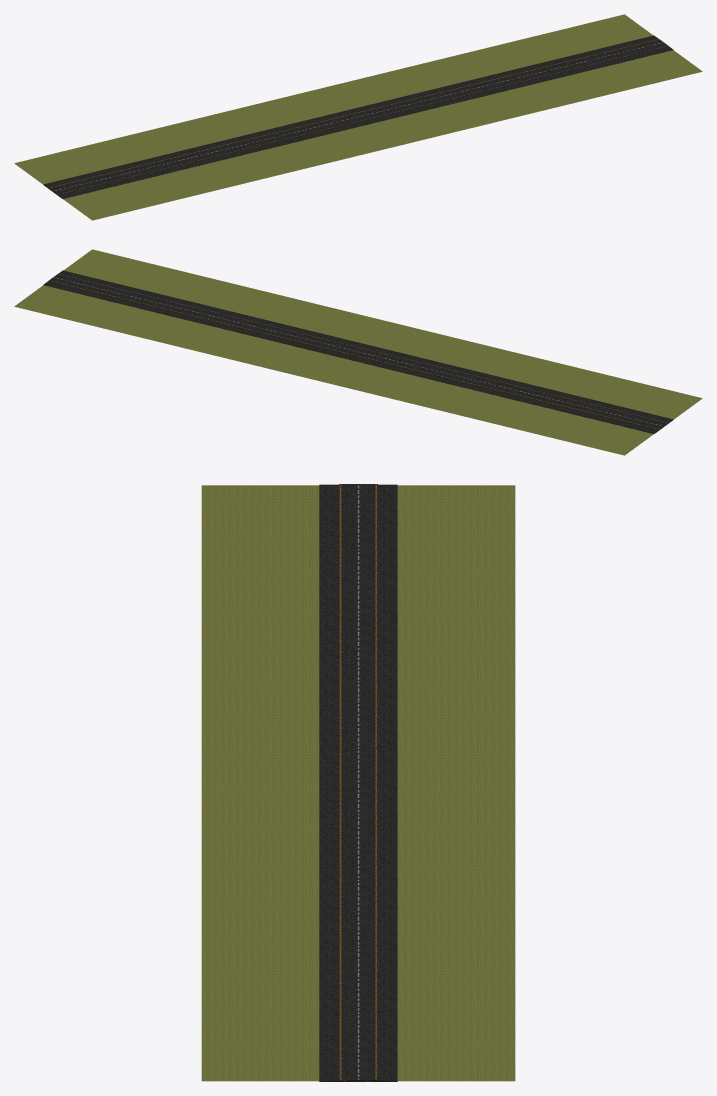
Rendered from Road.fbx.
3 views of the same model, one above another, from view 1: azimuth 30°, elevation 25°; view 2: azimuth 150°, elevation 25°; view 3: azimuth 270°, elevation 25° (orthographic). The views are drawn at different scales.
Visible parts, largest first — view 1: Plane, Cube.001; view 2: Plane, Cube.001; view 3: Plane, Cube.001.
Part boxes in pixels (box(x1,y1,x2,y2)): Plane: box(14, 14, 702, 220); Cube.001: box(43, 35, 673, 198); Plane: box(14, 249, 702, 455); Cube.001: box(43, 270, 673, 433); Plane: box(201, 485, 515, 1081); Cube.001: box(319, 484, 397, 1081).
Bounding box in the file's own units: 90004 × 130 × 20000.
3 materials, 3 textured.
